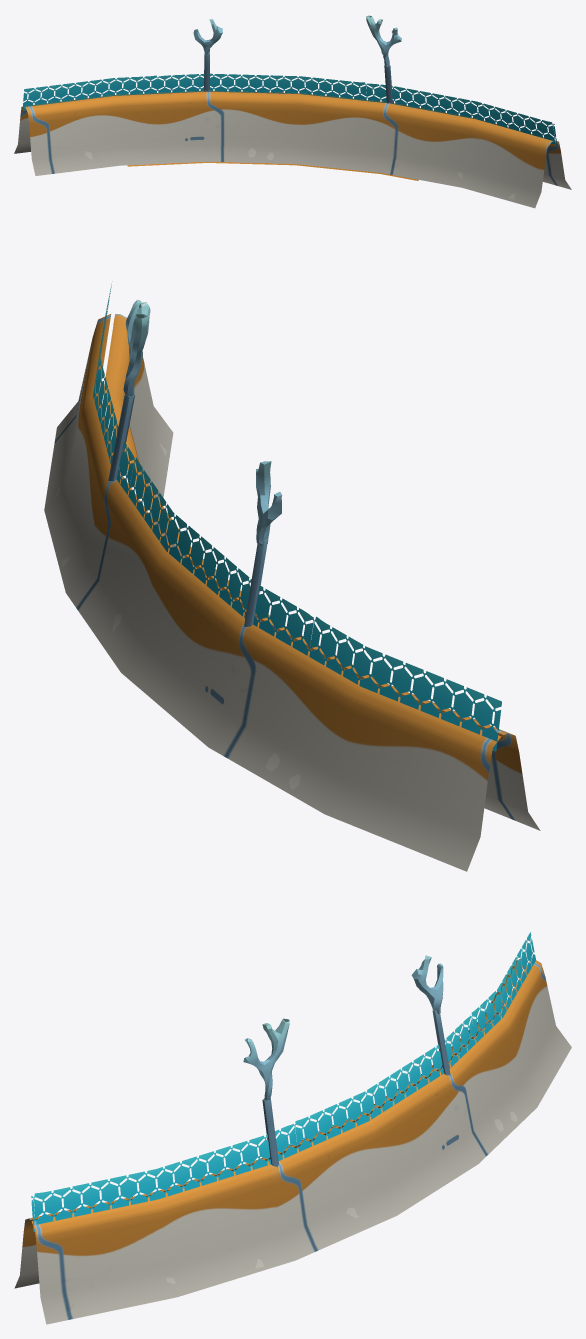
The model's file is mur_tour (1).fbx.
3 renders of one model, top to bottom at view 1: azimuth 30°, elevation 25°; view 2: azimuth 150°, elevation 25°; view 3: azimuth 270°, elevation 25°, orthographic. The views are drawn at different scales.
Parts seen in each view (by area): view 1: S_Wall_024; view 2: S_Wall_024; view 3: S_Wall_024.
Boxes of the visible parts, x1,y1,x2,y2 form: S_Wall_024: (14, 15, 571, 208); S_Wall_024: (44, 281, 540, 871); S_Wall_024: (14, 932, 571, 1324).
Bounding box in the file's own units: 872 × 314 × 726.
1 material, 1 textured.
